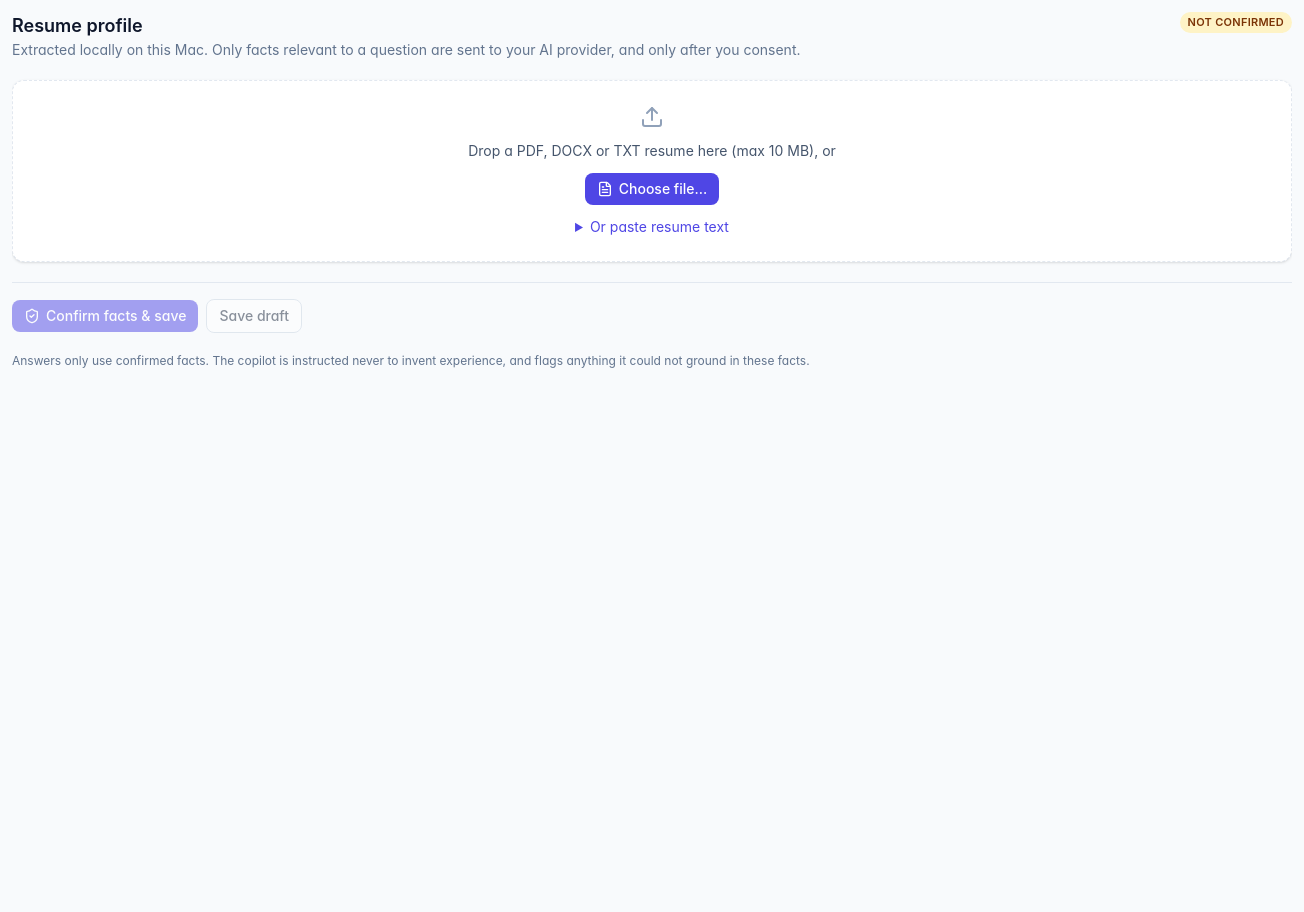
Test: ResumeProfileEditor › extracts from pasted text
Click the heading "Or paste resume text" at (659, 226), box [590, 218, 729, 235]
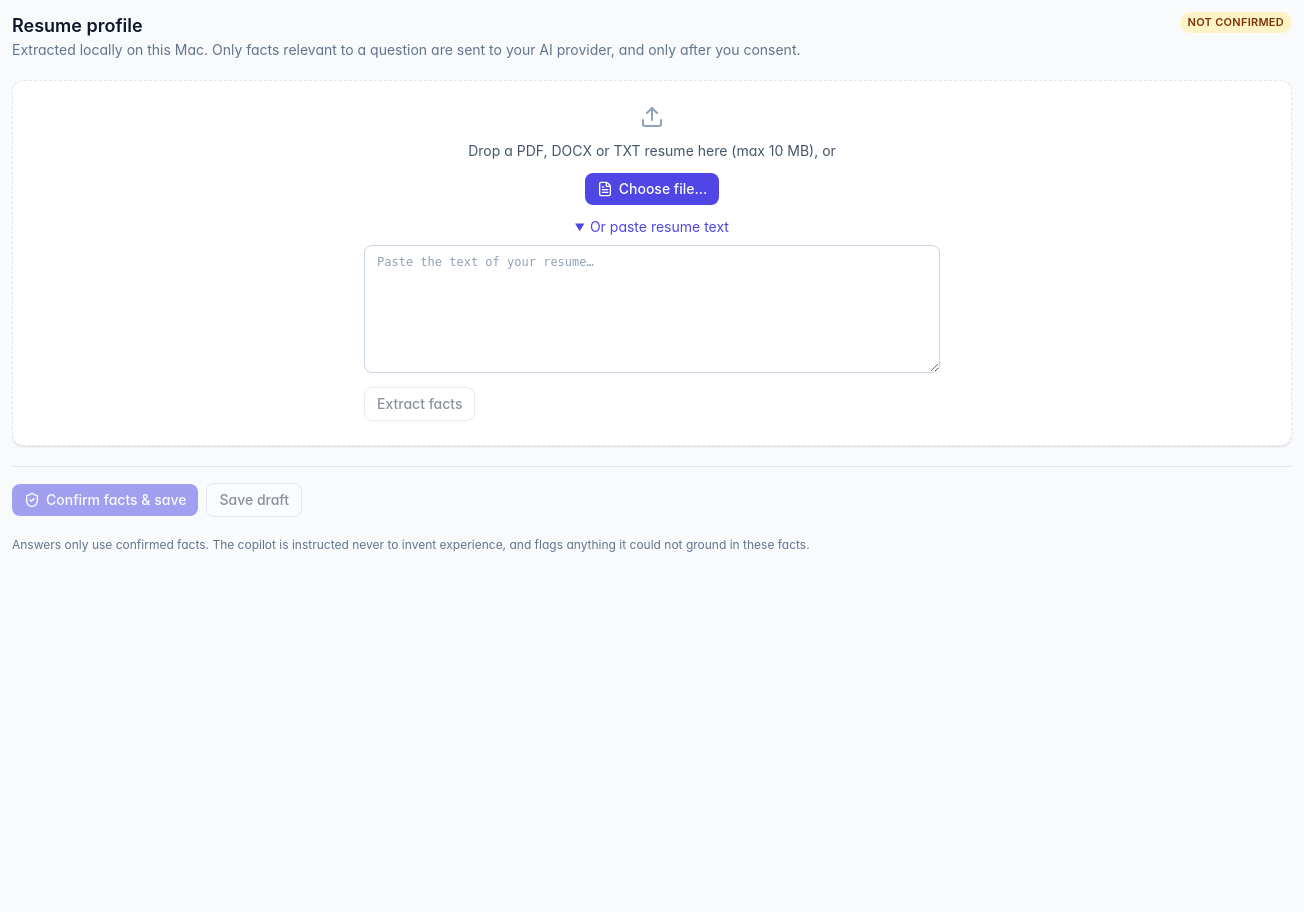
Type "A long enough pasted resume text for extraction" into the text box with test id "paste-resume" at (652, 309), box [364, 245, 940, 373]
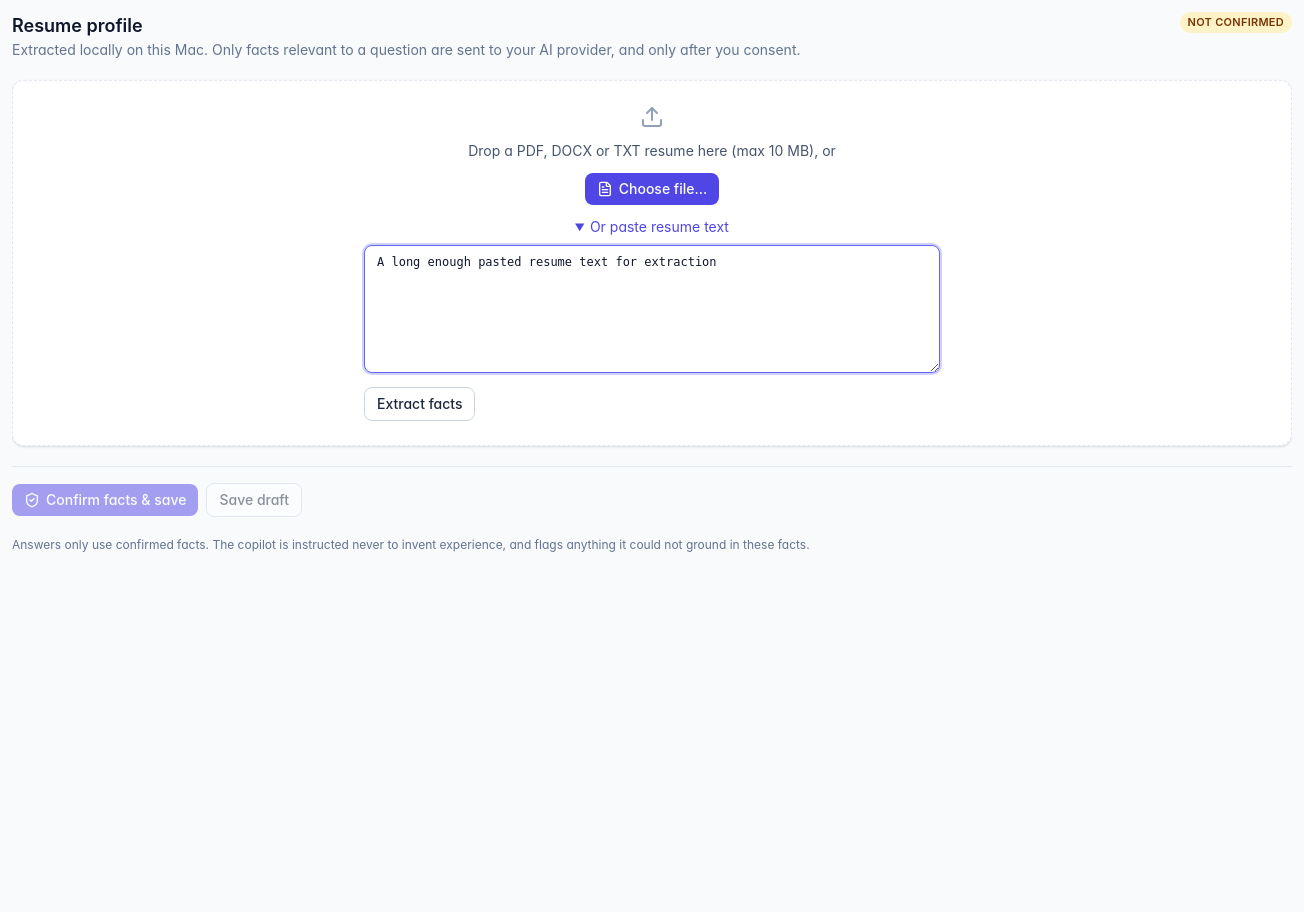
Click the button with test id "extract-resume" at (420, 404), box [364, 387, 476, 421]
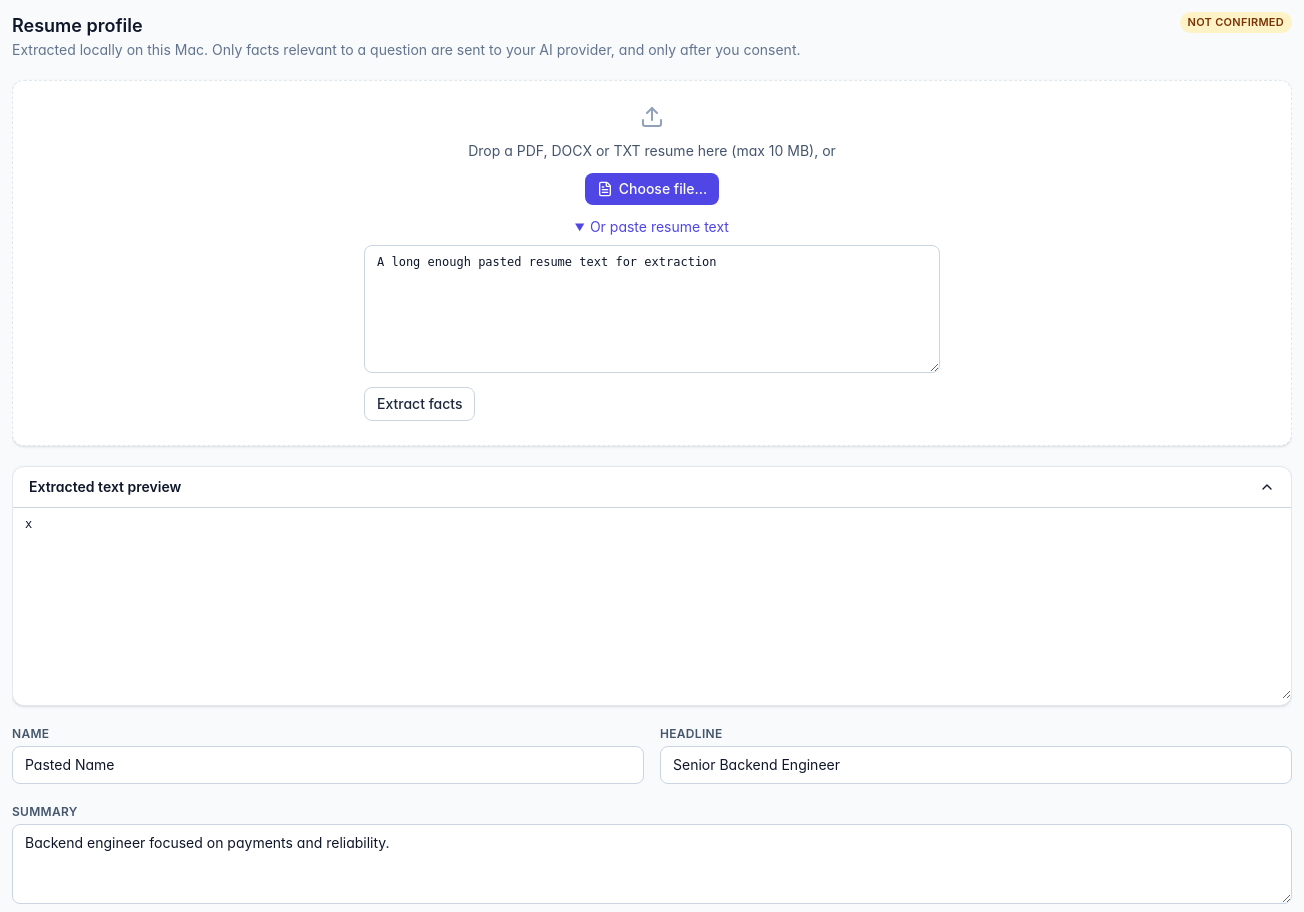
Expected: the field showing "Pasted Name" is shown, [12, 746, 644, 784]
